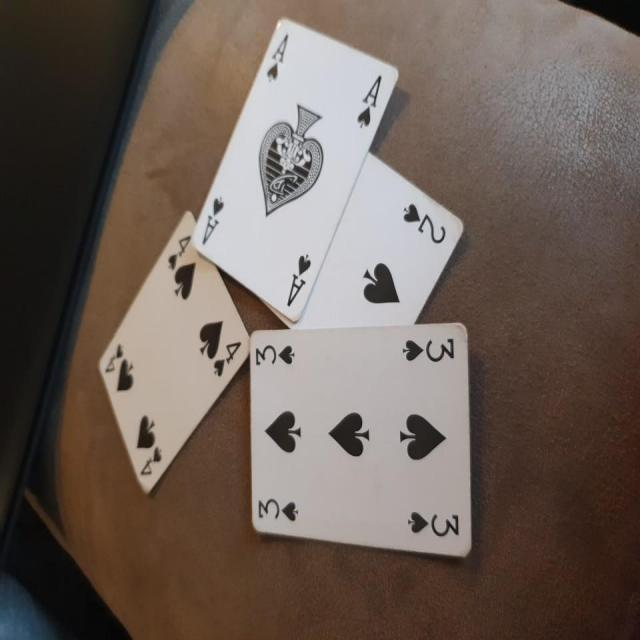2 Spades: (233, 121, 490, 328)
3 Spades: (244, 318, 484, 572)
4 Spades: (87, 215, 255, 526)
A Spades: (191, 2, 401, 329)
